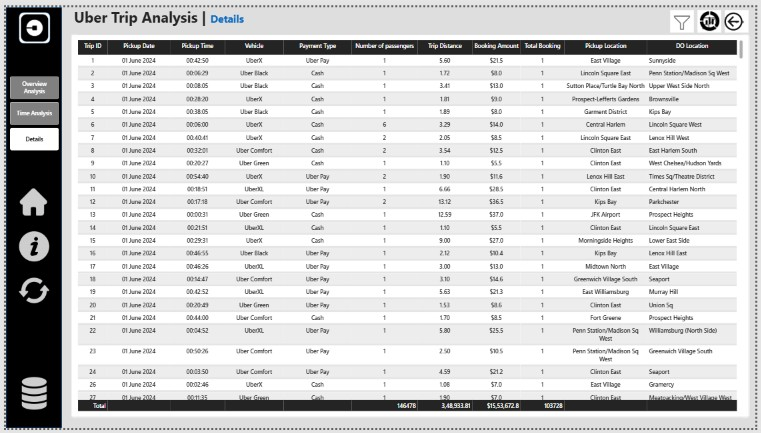

This screenshot's page, from the dashboard's own definition file:
{"tool":"powerbi","page":{"name":"Details","canvas":[1920,1080],"ordinal":2},"visuals":[{"type":"shape","box":[0,0,143.1,1078.9],"z":0},{"type":"textbox","box":[174.9,0,649.6,68.1],"z":1000},{"type":"shape","box":[174.9,68.1,1719.4,983.5],"z":2000},{"type":"tableEx","fields":{"Values":["Trip Details.Trip ID","Trip Details.Pickup Date","Trip Details.Pickup Hour (HH MM SS)","Trip Details.Vehicle","Trip Details.Payment_type","Sum(Trip Details.passenger_count)","Trip Details.Total Trip Distance Measure","Trip Details.Total Booking Amount","Trip Details.Total Booking","Location Table.Location","Trip Details.DO Location"]},"box":[165.8,68.1,1739.8,983.5],"z":3000},{"type":"actionButton","box":[1810,0,110,70],"z":4000},{"type":"image","box":[1732.5,10,142.5,50],"z":5000},{"type":"group","id":"g1","title":"Group 1","box":[25,12.5,95,80],"z":6000},{"type":"pageNavigator","box":[10,177.5,125,192.5],"z":7000},{"type":"image","box":[15,465,110,70],"z":8000},{"type":"image","box":[27.5,575,87.5,77.5],"z":9000},{"type":"image","box":[30,687.5,82.5,77.5],"z":10000},{"type":"image","box":[31.8,929,83.3,122.8],"z":11000},{"type":"shape","box":[32.5,12.5,80,80],"z":33000,"group":"g1"},{"type":"image","box":[25,17.5,95,70],"z":34000,"group":"g1"}]}

Visuals, with their boxes in screenshot pixels (x1, y1, x2, y2):
shape: 0 12 48 419
textbox: 60 12 305 38
shape: 60 38 708 408
tableEx - Trip Details.Trip ID x Trip Details.Pickup Date: 57 38 712 408
actionButton: 676 12 718 38
image: 647 16 701 35
"Group 1" group: 3 17 39 47
pageNavigator: 0 79 45 151
image: 0 187 41 214
image: 4 229 37 258
image: 5 271 36 300
image: 6 362 37 408
shape: 6 17 36 47
image: 3 18 39 45
